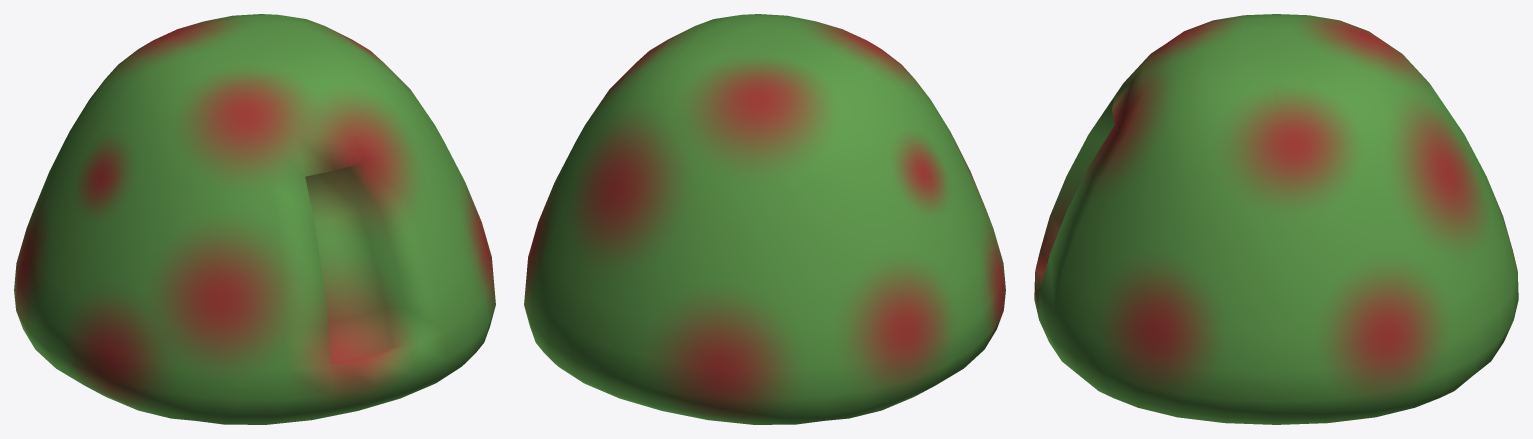
The model's file is top.glb.
3 views of the same model, side by side, from view 1: azimuth 30°, elevation 25°; view 2: azimuth 150°, elevation 25°; view 3: azimuth 270°, elevation 25° (orthographic).
Parts seen in each view (by area): view 1: Top; view 2: Top; view 3: Top.
Boxes of the visible parts, x1,y1,x2,y2 form: Top: [14, 14, 495, 424]; Top: [524, 14, 1005, 424]; Top: [1034, 14, 1518, 424].
Bounding box in the file's own units: 1.44 × 0.969 × 1.44.
Materials: 1 (1 with a texture image).
